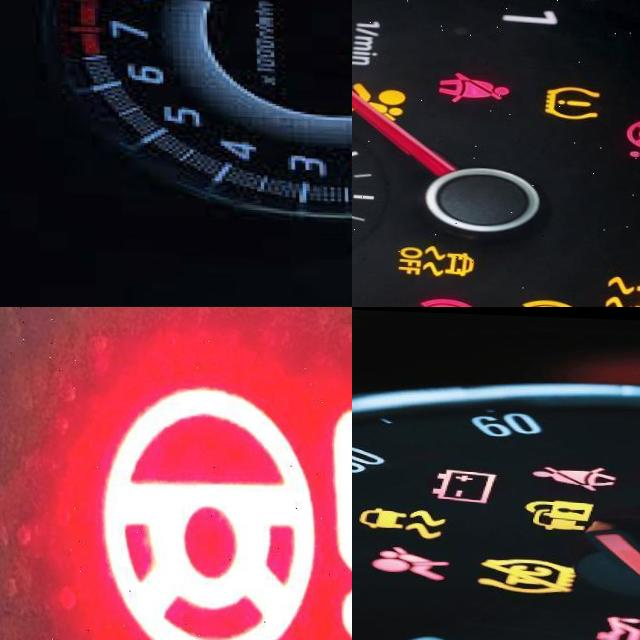Electronic Power Steering Warning: (97, 378, 352, 640), (624, 113, 640, 159)
Seat Belt: (433, 70, 509, 107), (531, 463, 617, 491)
